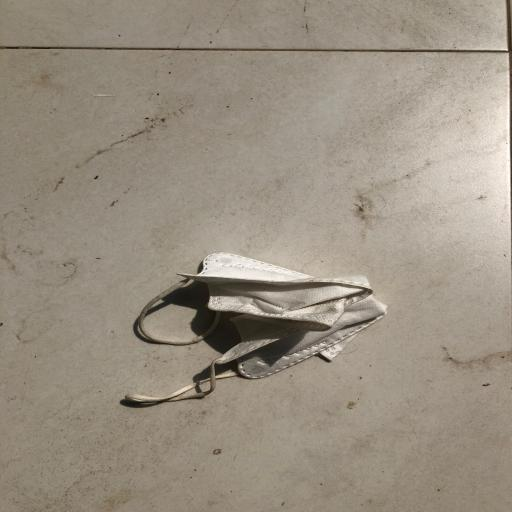waste: (122, 240, 397, 429)
